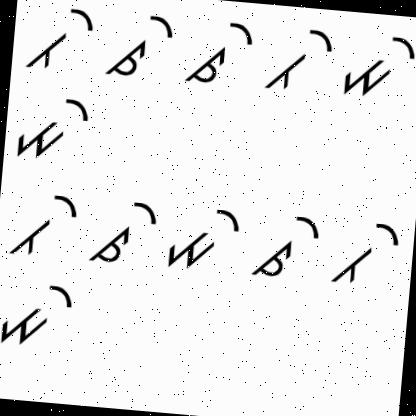bay: (24, 0, 100, 80), (262, 21, 338, 101), (5, 183, 80, 264), (331, 215, 403, 294)
cay: (85, 190, 161, 272), (248, 206, 325, 286), (183, 14, 258, 94), (106, 7, 178, 84)
may: (10, 87, 94, 166), (0, 274, 81, 351), (166, 198, 244, 276), (338, 30, 416, 107)
